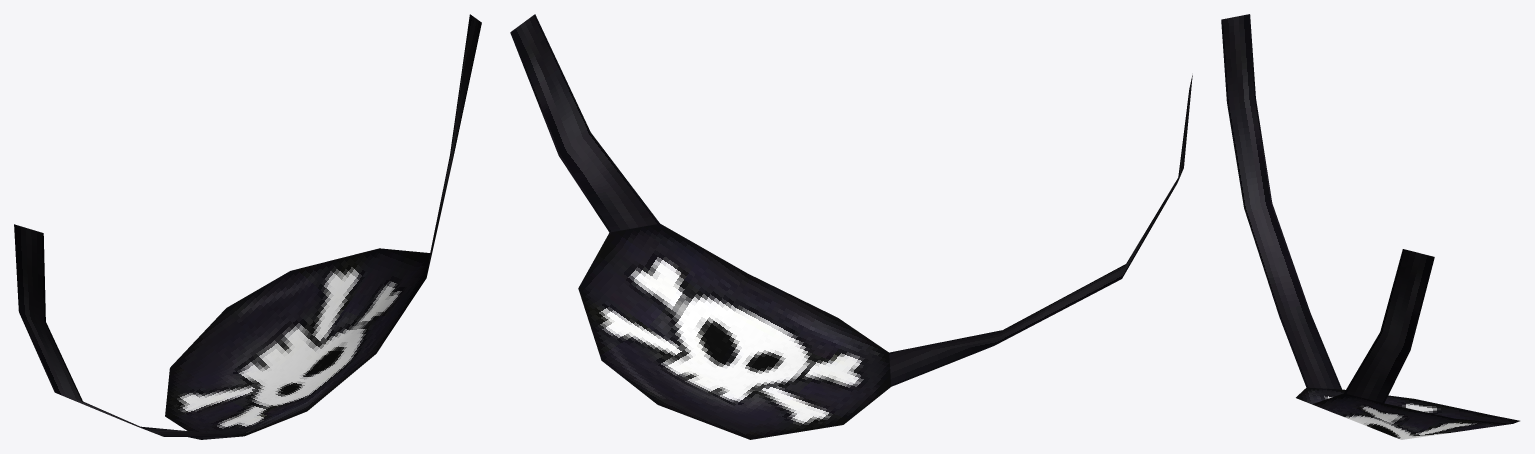
Rendered from tt_m_chr_avt_acc_msk_eyepatch.glb.
The picture shows the model from 3 angles, left to right: view 1: azimuth 30°, elevation 25°; view 2: azimuth 150°, elevation 25°; view 3: azimuth 270°, elevation 25°; orthographic projection. The views are drawn at different scales.
Visible parts, largest first — view 1: eyepatch; view 2: eyepatch; view 3: eyepatch.
Boxes of the visible parts, x1,y1,x2,y2 form: eyepatch: [14, 14, 481, 439]; eyepatch: [510, 14, 1192, 439]; eyepatch: [1221, 14, 1519, 439].
Size of the model in its own units: 2.88 by 1.58 by 1.52.
1 material, 1 textured.
